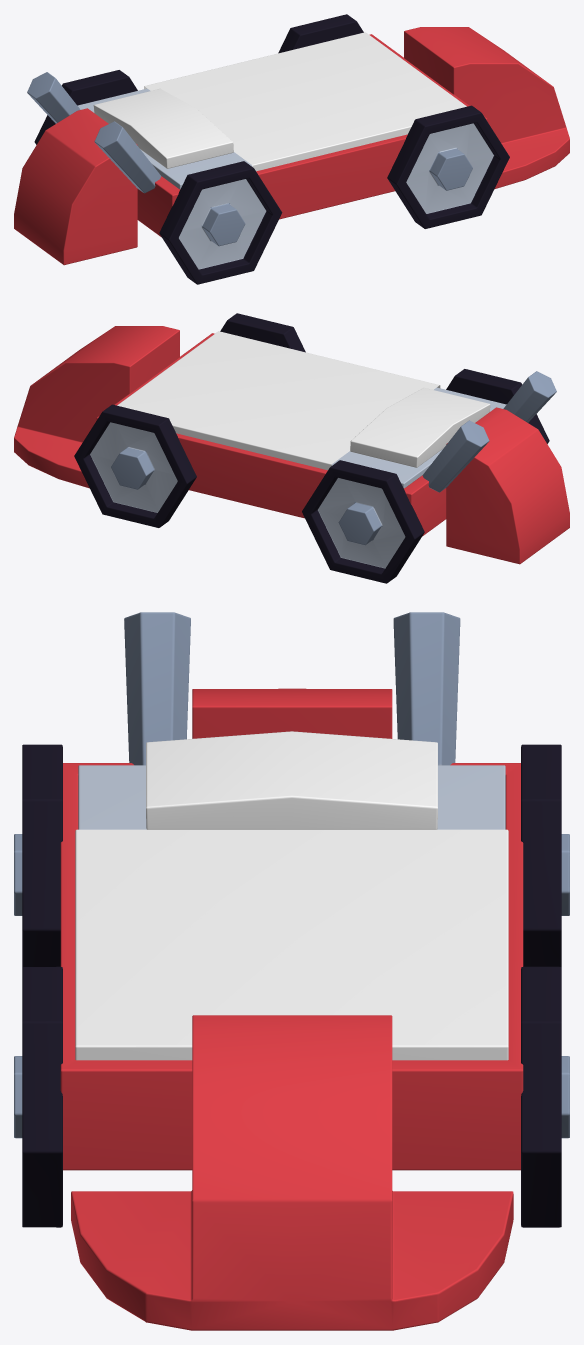
Rendered from bed.glb.
The picture shows the model from 3 angles, top to bottom: view 1: azimuth 30°, elevation 25°; view 2: azimuth 150°, elevation 25°; view 3: azimuth 270°, elevation 25°; orthographic projection. The views are drawn at different scales.
Visible parts, largest first — view 1: Bed; view 2: Bed; view 3: Bed.
Part boxes in pixels (box(x1,y1,x2,y2)): Bed: box(14, 14, 569, 284); Bed: box(14, 313, 569, 583); Bed: box(14, 612, 569, 1330).
Size of the model in its own units: 2.44 by 0.6817 by 1.17.
1 material, 1 textured.
